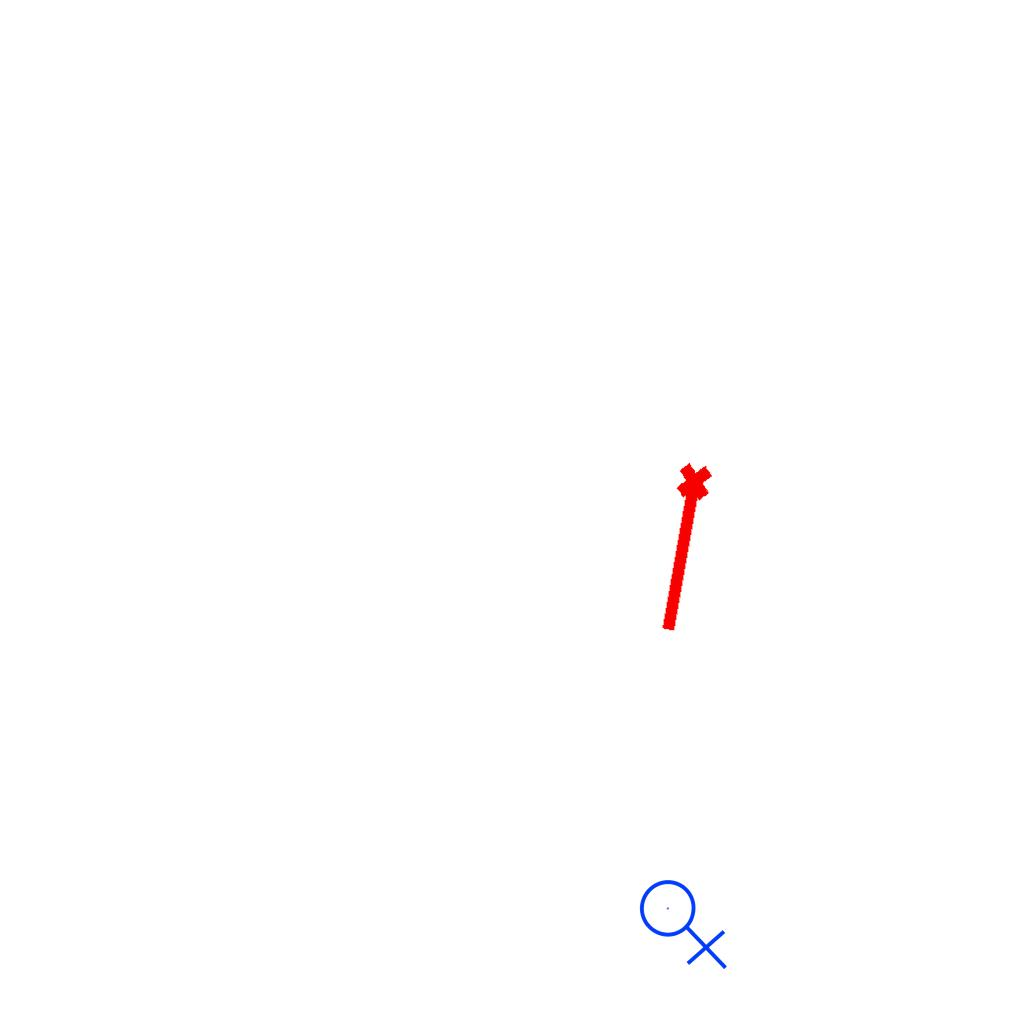ASR_Ansaugoeffnung: (647, 458, 723, 640)
Elektroanschluss_allgemein_230V_Geraeteanschlussdose_230V: (638, 871, 732, 970)
